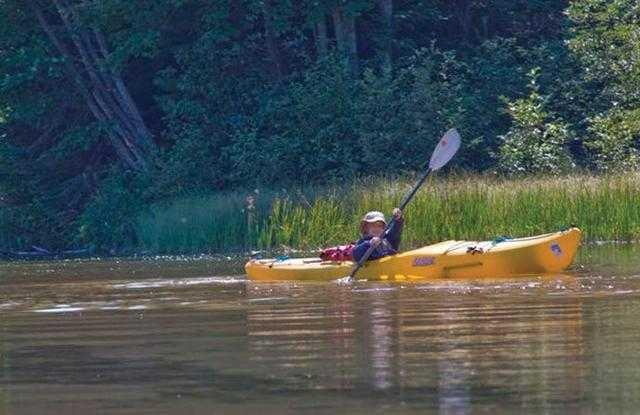kayak: (244, 228, 583, 287)
